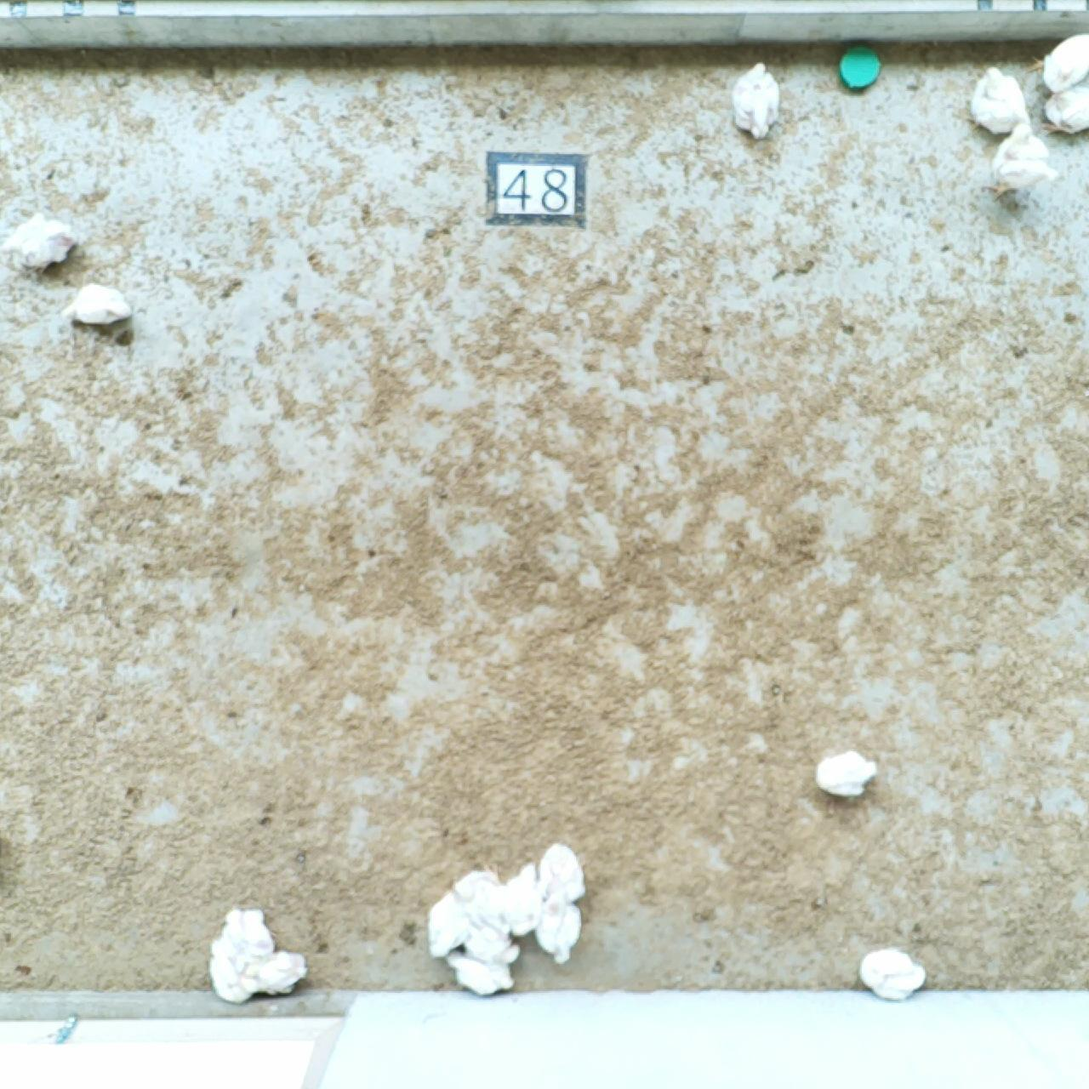chicken: (993, 126, 1054, 202), (5, 214, 74, 274), (972, 66, 1029, 134), (733, 63, 781, 140), (861, 948, 927, 1001), (450, 873, 504, 936), (445, 949, 516, 995), (499, 863, 542, 935), (466, 914, 525, 965), (817, 750, 878, 799), (1041, 33, 1089, 91), (539, 846, 587, 904), (426, 898, 471, 959), (535, 908, 584, 962), (223, 911, 272, 965), (211, 948, 259, 1002), (249, 956, 309, 997), (67, 287, 128, 327), (1046, 83, 1089, 131)
